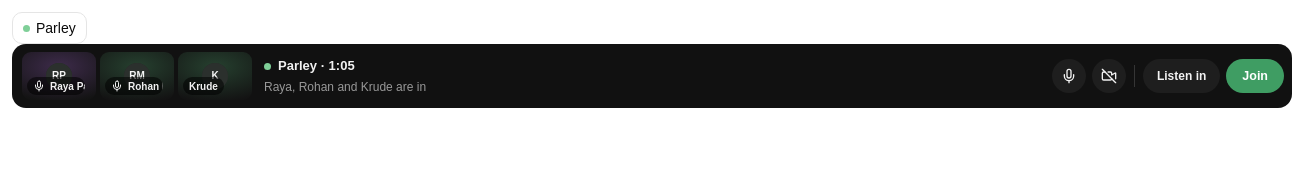
Test case: a parley in a teamspace › captions everyone and sends only the member's own words to the room
Click the button "Join".
click(1255, 76)  # box [1226, 59, 1284, 93]
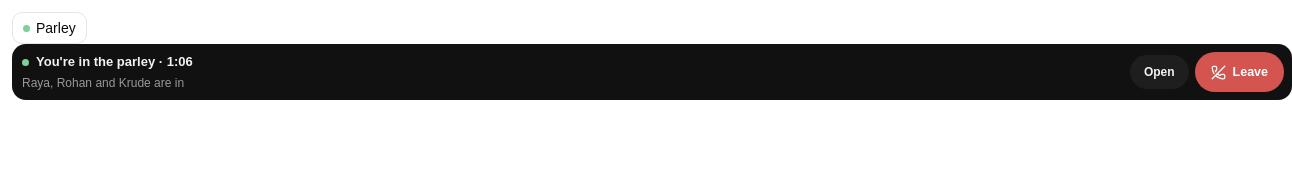
Check: the text "You're in the parley · 1:06" is shown, box [22, 54, 193, 69]
